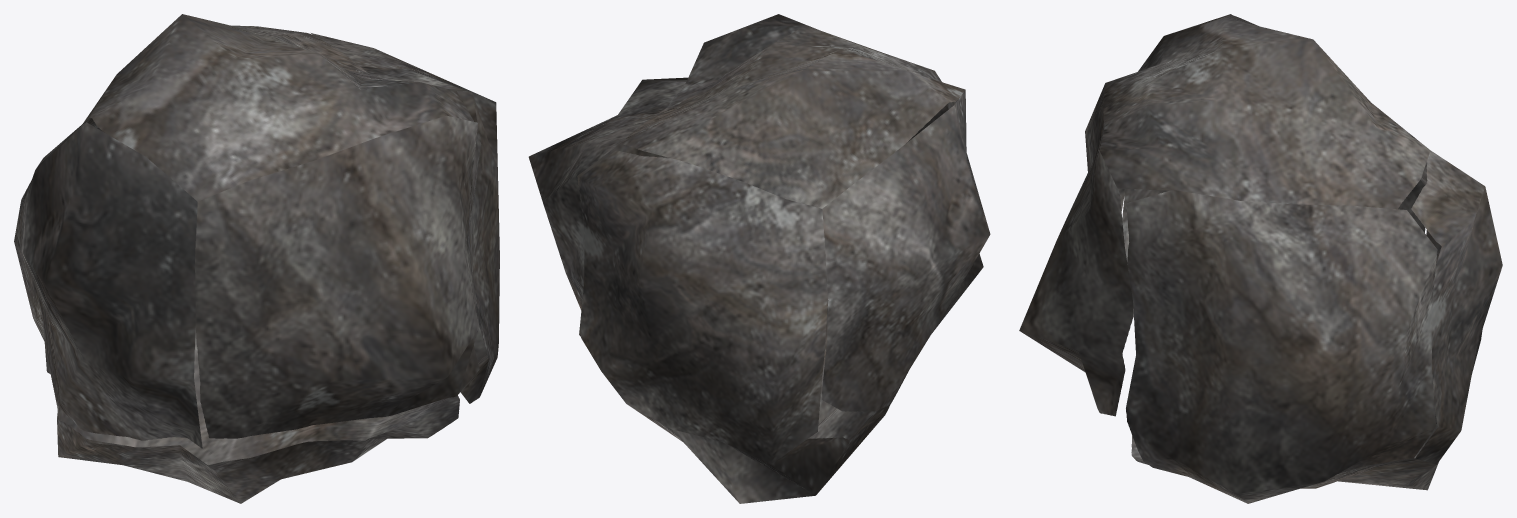
File: Rock6.FBX
3 renders of one model, left to right at view 1: azimuth 30°, elevation 25°; view 2: azimuth 150°, elevation 25°; view 3: azimuth 270°, elevation 25°, orthographic. The views are drawn at different scales.
Visible parts, largest first — view 1: rockLP001; view 2: rockLP001; view 3: rockLP001.
Part boxes in pixels (x1,y1,x2,y2): rockLP001: [14, 14, 499, 503]; rockLP001: [528, 14, 990, 503]; rockLP001: [1019, 14, 1502, 503].
Size of the model in its own units: 2.91 by 2.67 by 2.64.
1 material, 1 textured.
